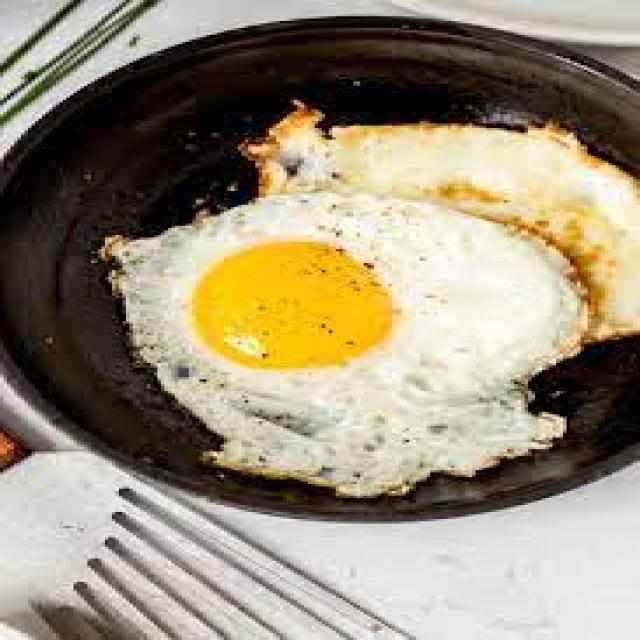Egg: (115, 194, 584, 497), (242, 103, 639, 338)
